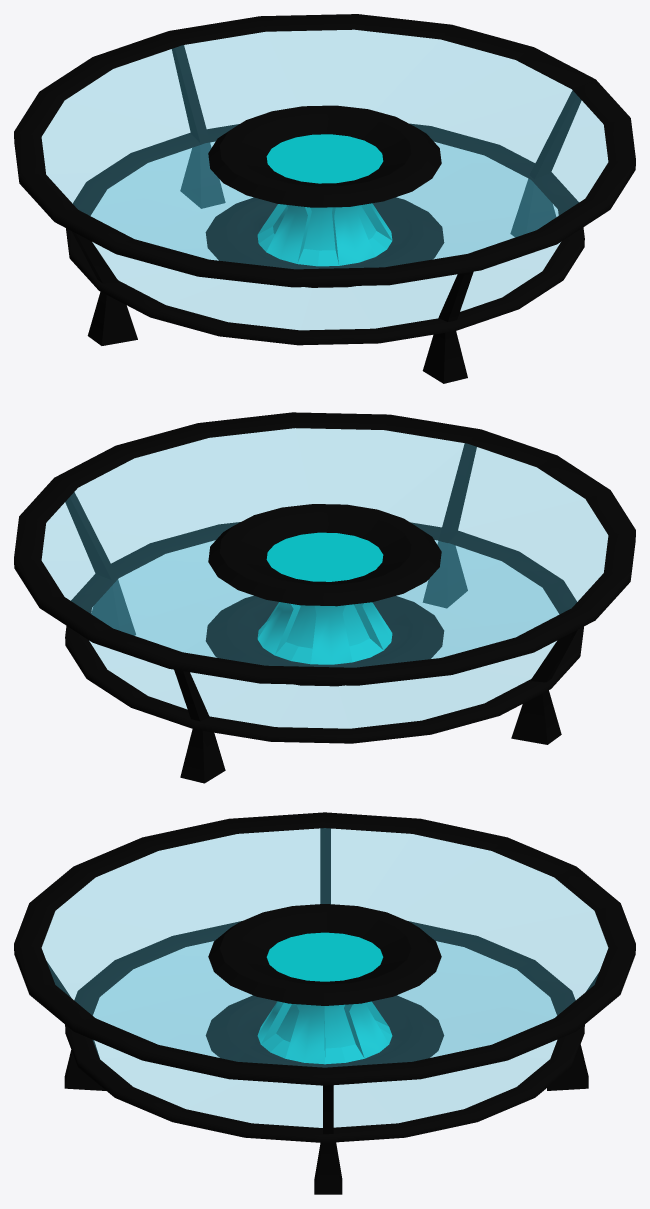
The model's file is SM_decor_livingroomtable.fbx.
The picture shows the model from 3 angles, top to bottom: view 1: azimuth 30°, elevation 25°; view 2: azimuth 150°, elevation 25°; view 3: azimuth 270°, elevation 25°; orthographic projection.
Parts seen in each view (by area): view 1: pCylinder11; view 2: pCylinder11; view 3: pCylinder11.
Part boxes in pixels (x1,y1,x2,y2): pCylinder11: (14, 14, 635, 383); pCylinder11: (14, 412, 635, 783); pCylinder11: (14, 812, 635, 1194).
Bounding box in the file's own units: 14.56 × 3.65 × 14.56.
